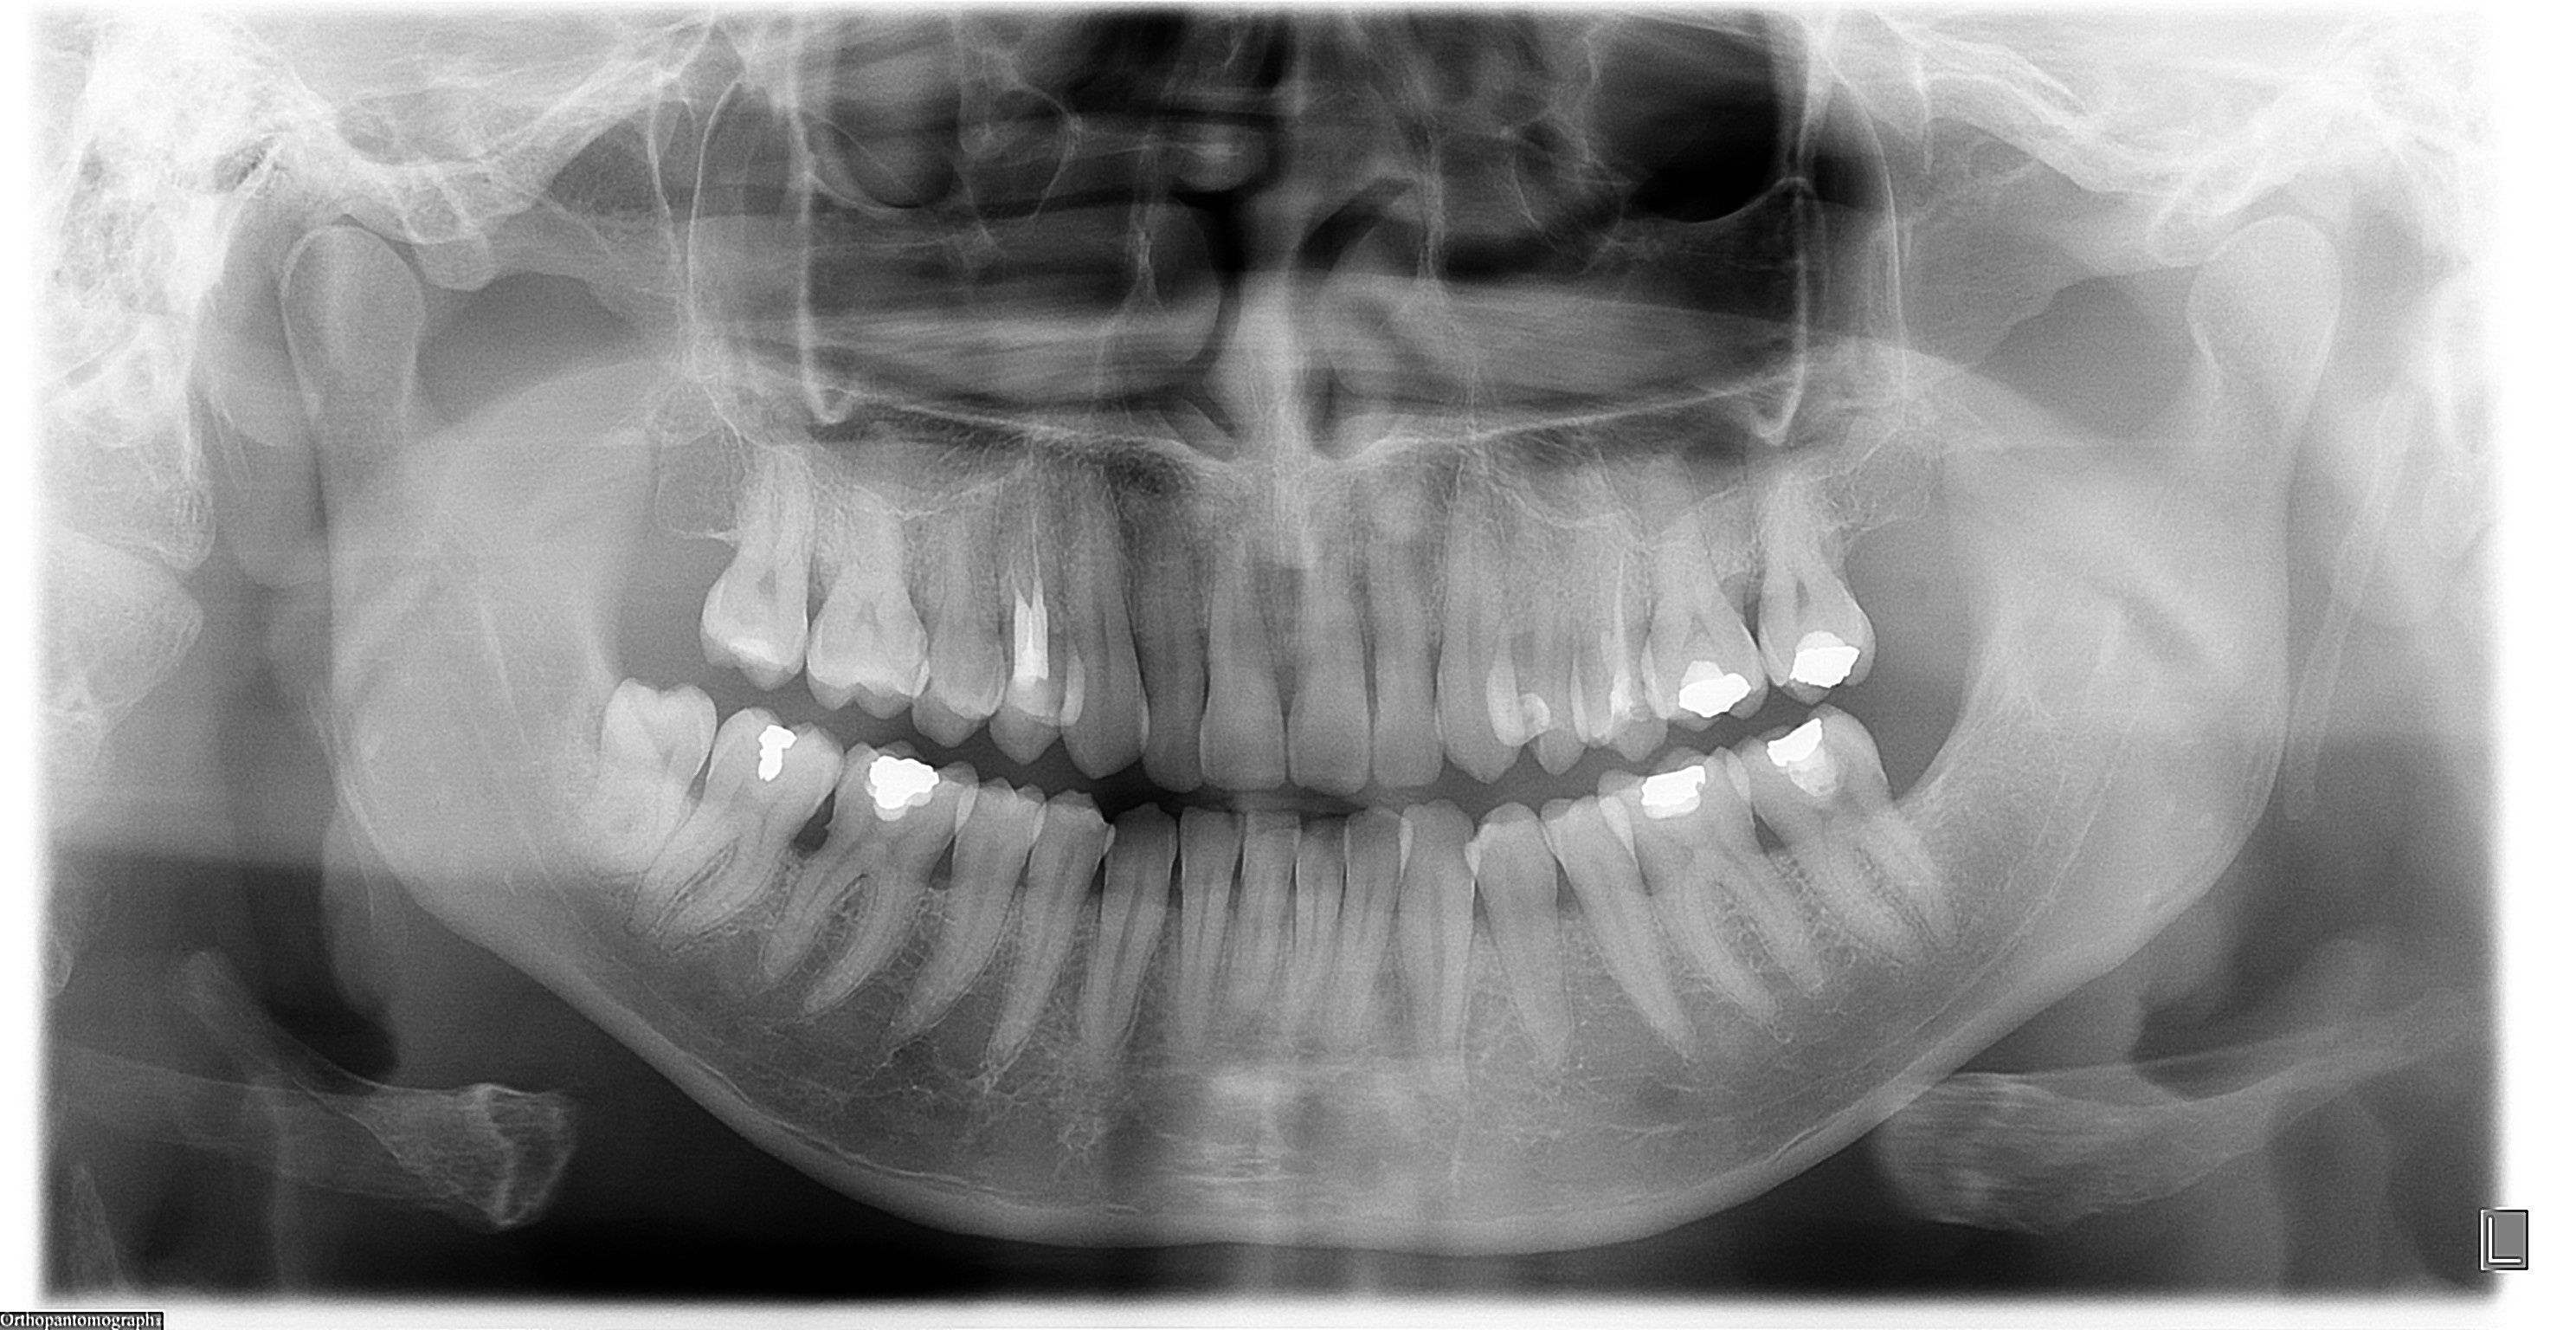END: (483, 161, 1531, 838)
OBT: (360, 334, 1155, 1115)
